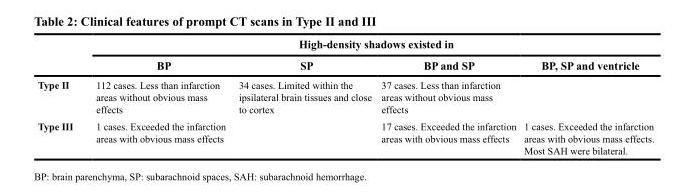table: (37, 37, 653, 155)
table column: (83, 37, 231, 155), (231, 37, 375, 155), (375, 37, 519, 155), (519, 37, 653, 155), (37, 37, 83, 155)
table column header: (37, 37, 653, 74)
table row: (37, 74, 653, 117), (37, 117, 653, 155), (37, 54, 653, 74), (37, 37, 653, 54)
table spanning cell: (83, 37, 653, 54)
